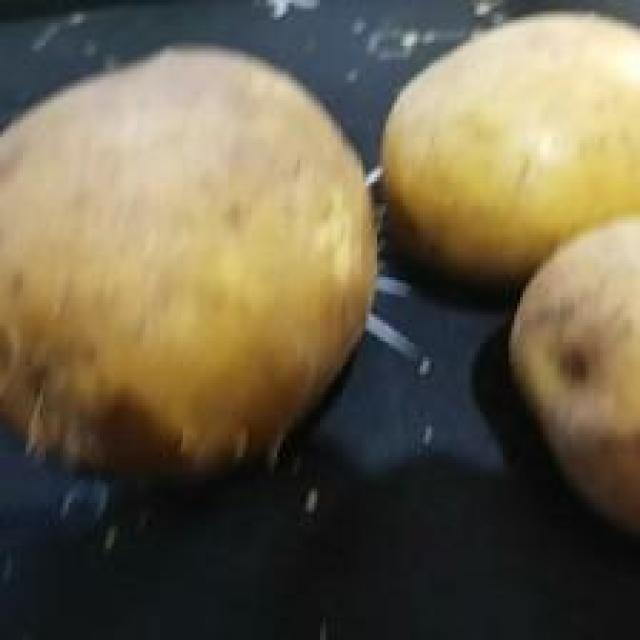potato: (380, 12, 640, 294)
